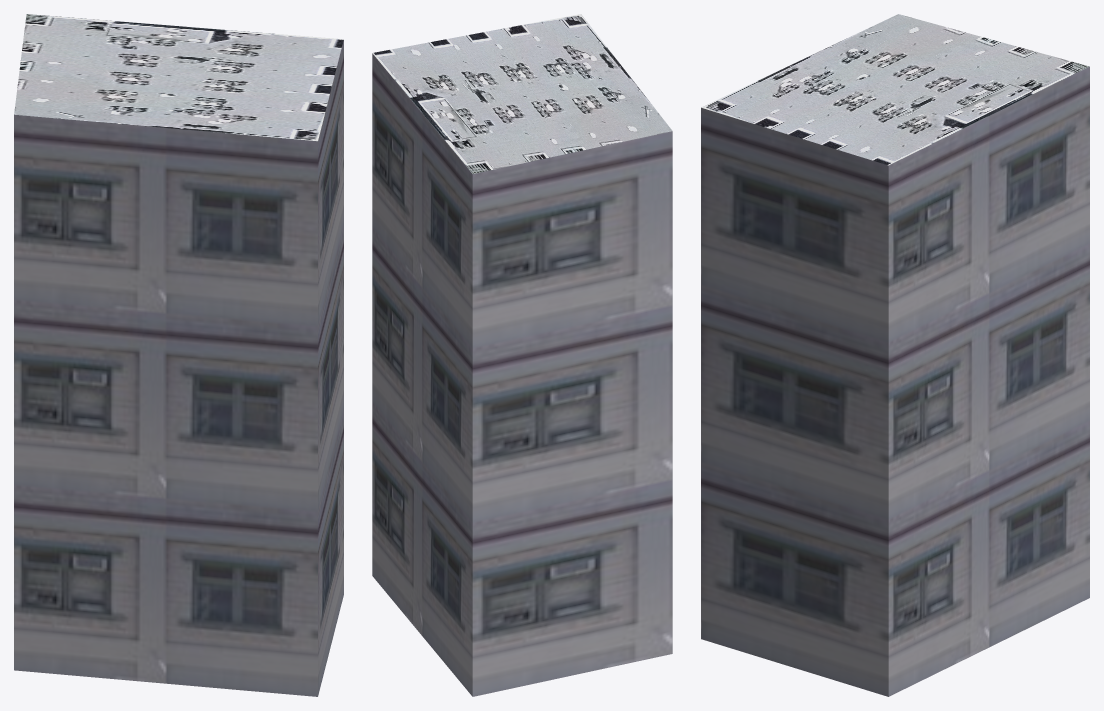
File: ResTex__5092.fbx
3 renders of one model, left to right at view 1: azimuth 30°, elevation 25°; view 2: azimuth 150°, elevation 25°; view 3: azimuth 270°, elevation 25°, orthographic. The views are drawn at different scales.
Visible parts, largest first — view 1: CityEngineMaterial_1_m, CityEngineMaterial_8_m; view 2: CityEngineMaterial_1_m, CityEngineMaterial_8_m; view 3: CityEngineMaterial_1_m, CityEngineMaterial_8_m.
Part boxes in pixels (<box>): CityEngineMaterial_1_m: <box>14,40,343,696</box>; CityEngineMaterial_8_m: <box>14,14,343,141</box>; CityEngineMaterial_1_m: <box>372,53,672,696</box>; CityEngineMaterial_8_m: <box>372,14,672,173</box>; CityEngineMaterial_1_m: <box>701,66,1089,696</box>; CityEngineMaterial_8_m: <box>701,14,1089,165</box>.
Bounding box in the file's own units: 5.5 × 9 × 5.97.
Materials: 2 (2 with a texture image).
